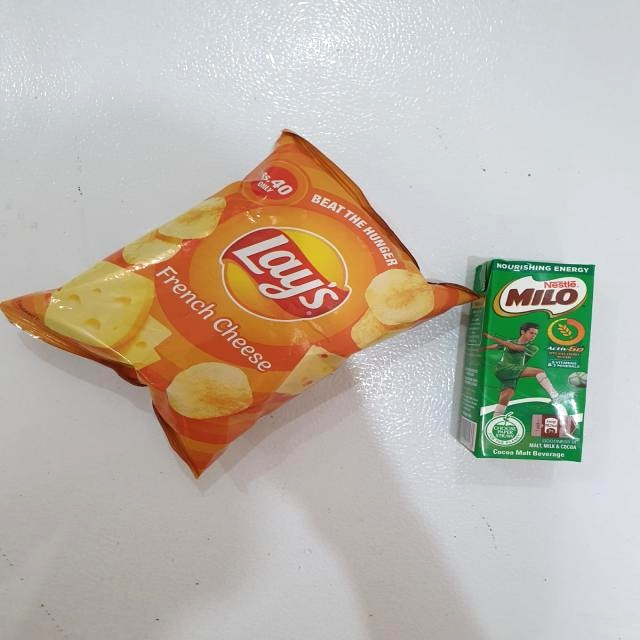lays-small: (44, 147, 432, 445)
milo-180ml: (483, 264, 591, 455)
